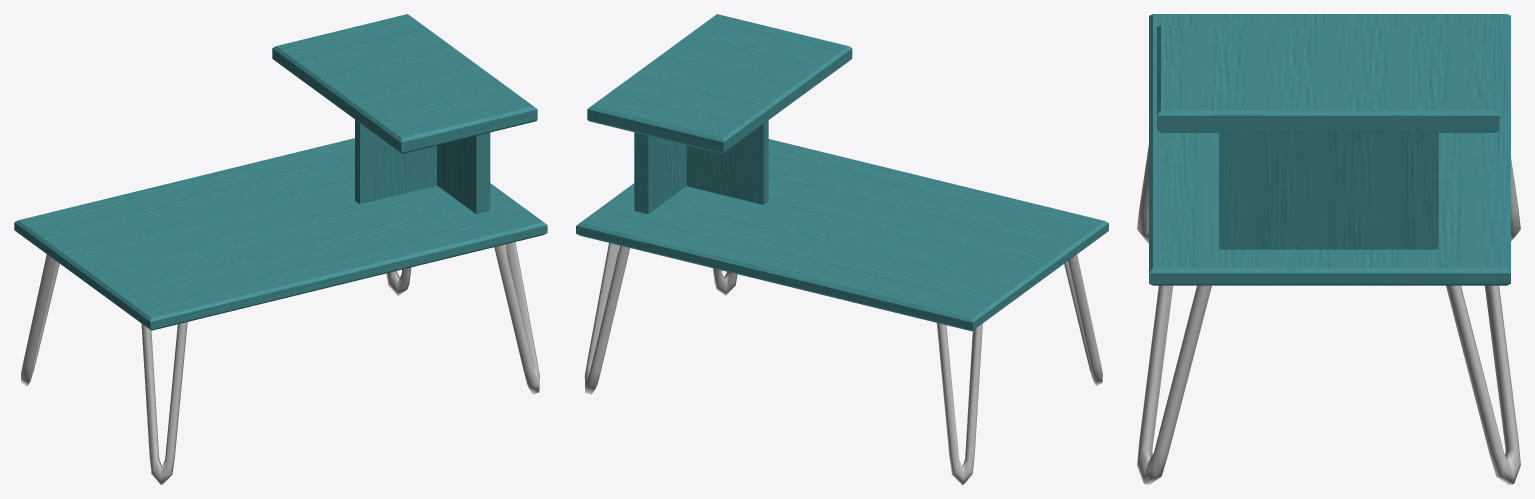
File: End_Table_08.FBX
3 views of the same model, side by side, from view 1: azimuth 30°, elevation 25°; view 2: azimuth 150°, elevation 25°; view 3: azimuth 270°, elevation 25° (orthographic). The views are drawn at different scales.
Parts seen in each view (by area): view 1: End_Table; view 2: End_Table; view 3: End_Table.
Part boxes in pixels (left/top/right/bottom): End_Table: left=14, top=14, right=547, bottom=484; End_Table: left=576, top=14, right=1108, bottom=484; End_Table: left=1137, top=14, right=1520, bottom=484.
Bounding box in the file's own units: 160 × 109 × 101.
